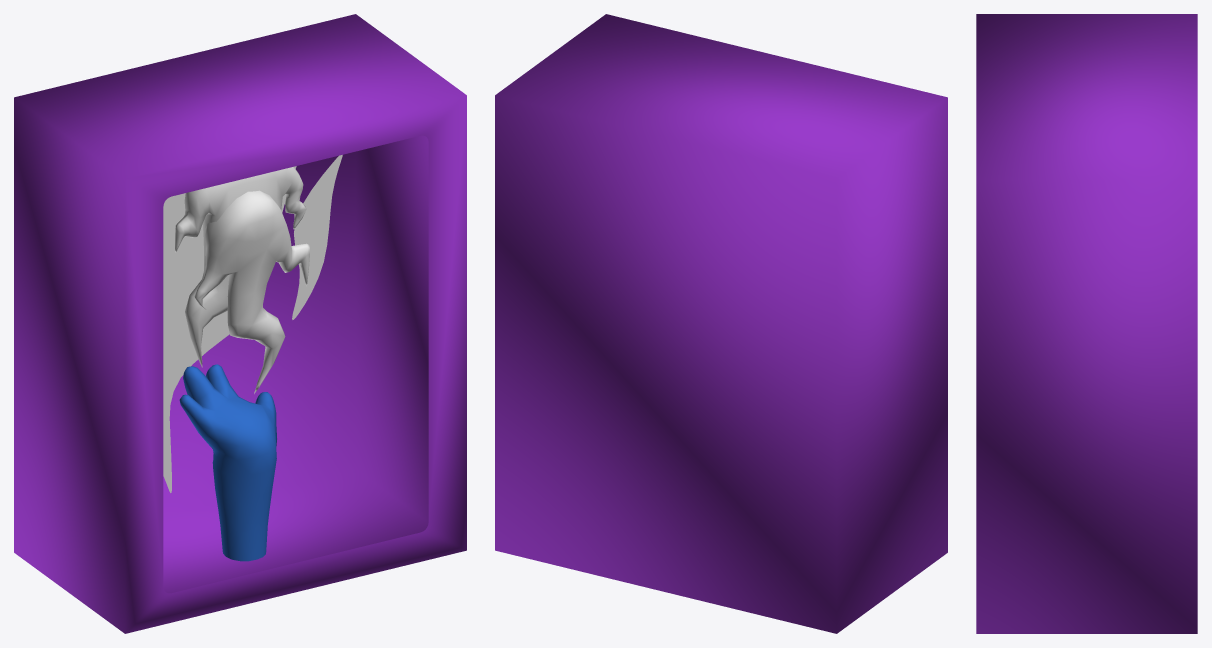
The model's file is 1_Fireball.fbx.
3 views of the same model, side by side, from view 1: azimuth 30°, elevation 25°; view 2: azimuth 150°, elevation 25°; view 3: azimuth 270°, elevation 25° (orthographic).
Visible parts, largest first — view 1: 1_Fireball_bg, 1_Fireball; view 2: 1_Fireball_bg; view 3: 1_Fireball_bg.
Boxes of the visible parts, left/top/right/bottom form: 1_Fireball_bg: left=14, top=14, right=466, bottom=633; 1_Fireball: left=163, top=155, right=342, bottom=561; 1_Fireball_bg: left=495, top=14, right=947, bottom=633; 1_Fireball_bg: left=976, top=14, right=1197, bottom=633.
Bounding box in the file's own units: 276 × 351 × 155.
